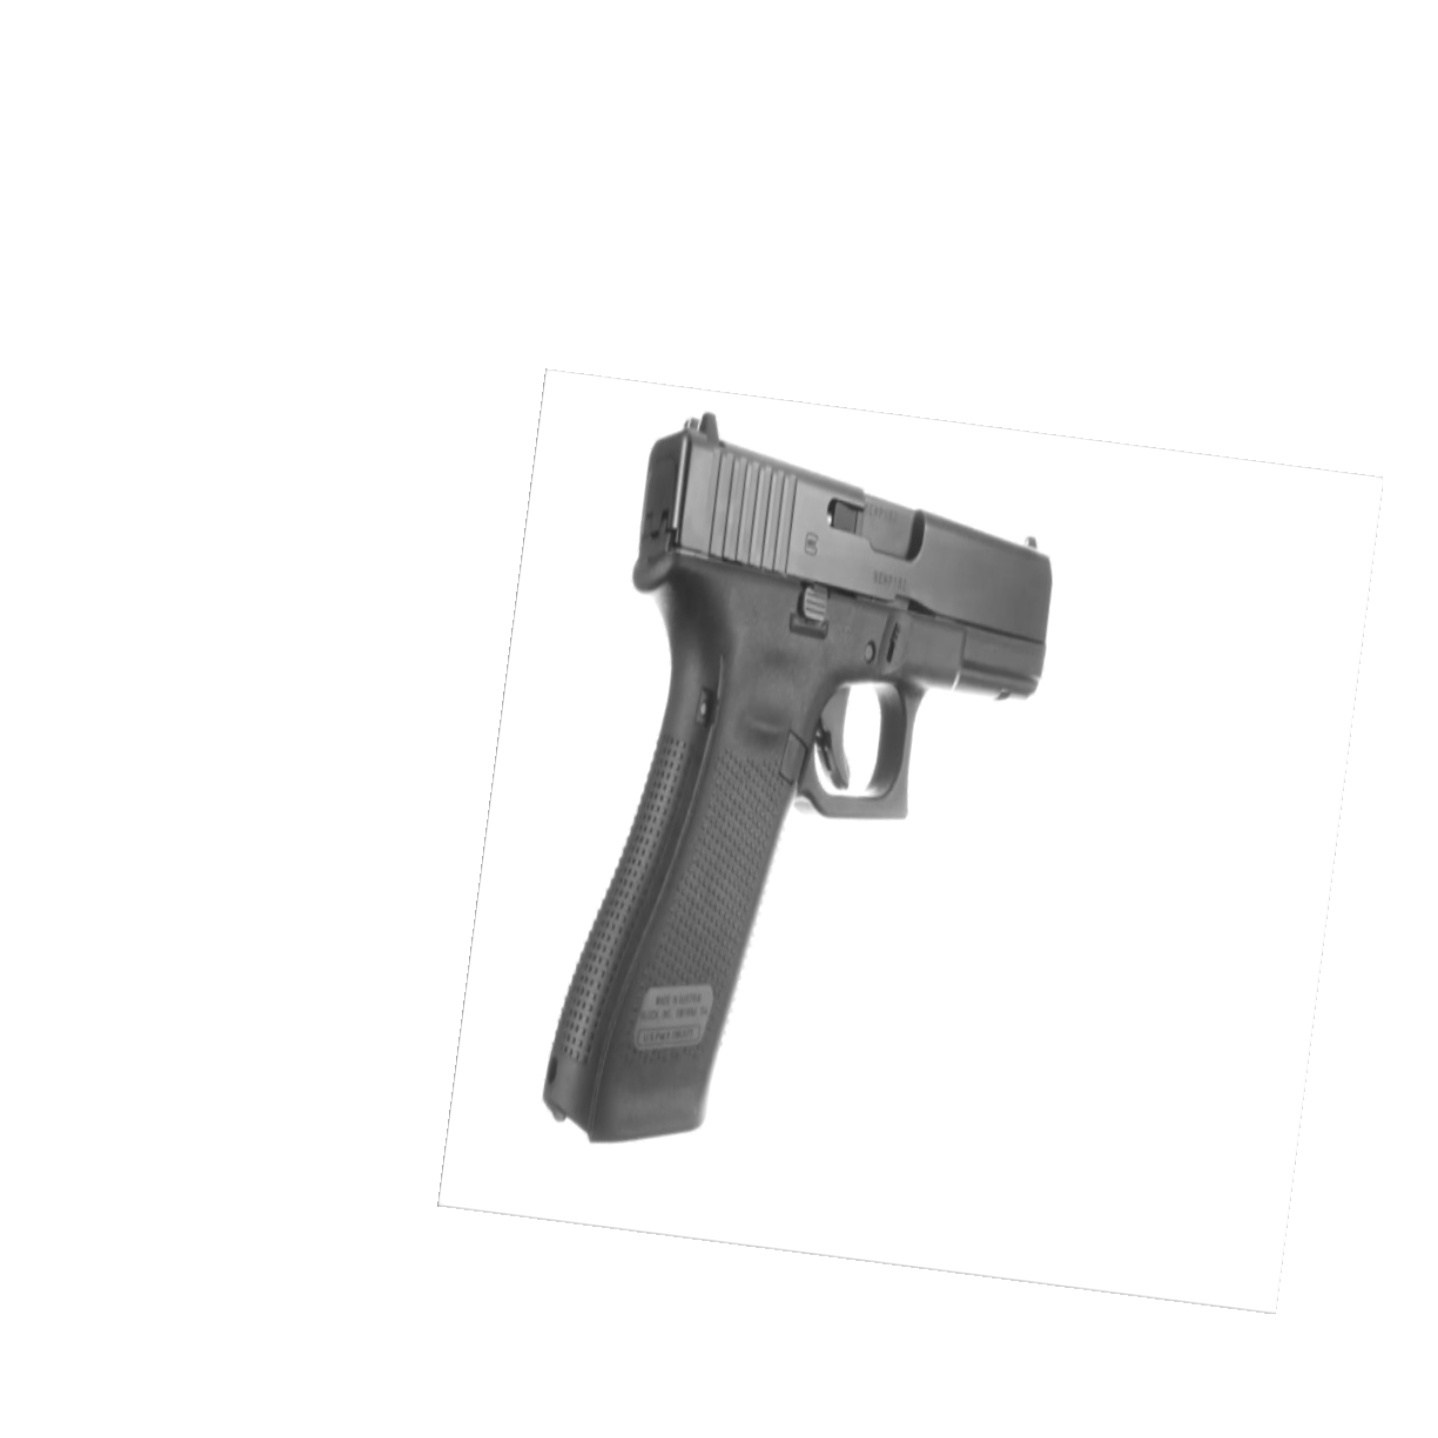gun: (524, 392, 1061, 1160)
